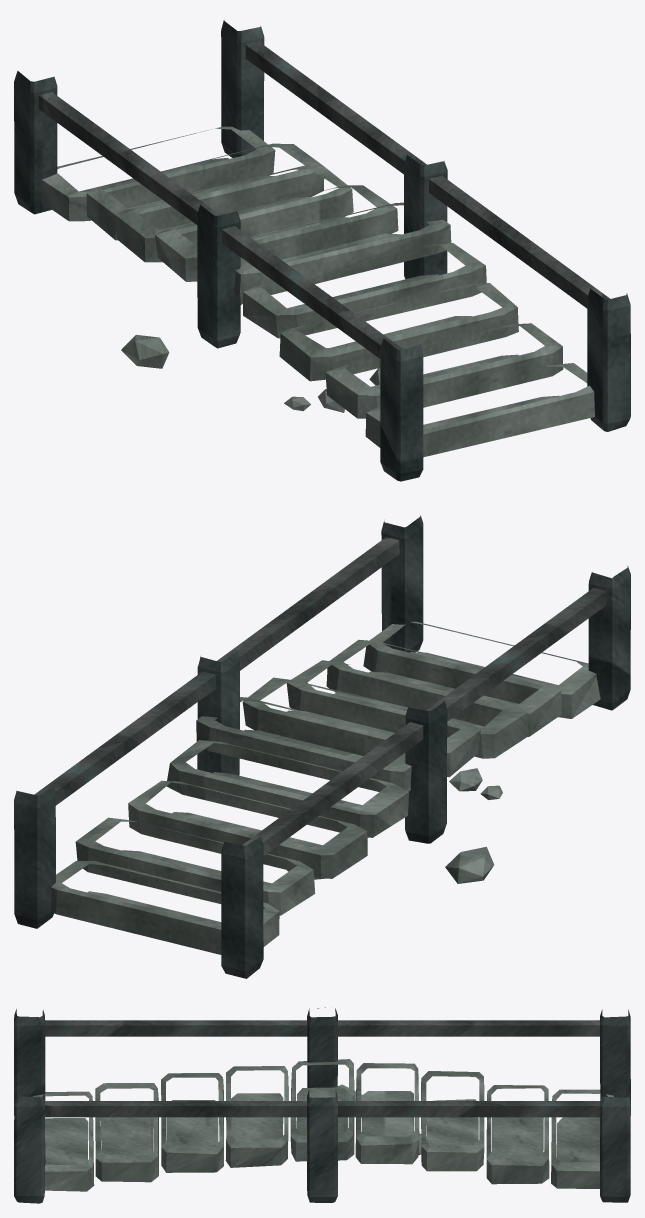
Rendered from 0389_ruined_bridge_14.glb.
3 views of the same model, one above another, from view 1: azimuth 30°, elevation 25°; view 2: azimuth 150°, elevation 25°; view 3: azimuth 270°, elevation 25° (orthographic). The views are drawn at different scales.
Visible parts, largest first — view 1: stone, stone_dark, iron; view 2: stone, stone_dark, iron; view 3: stone, iron, stone_dark.
Part boxes in pixels (bbox=[...]): stone: bbox=[41, 126, 594, 457]; stone_dark: bbox=[14, 20, 630, 481]; iron: bbox=[38, 41, 610, 358]; stone: bbox=[51, 621, 600, 954]; stone_dark: bbox=[14, 515, 630, 978]; iron: bbox=[34, 537, 606, 855]; stone: bbox=[33, 1059, 613, 1191]; iron: bbox=[45, 1020, 600, 1117]; stone_dark: bbox=[14, 1007, 630, 1203].
Bounding box in the file's own units: 2.24 × 1.09 × 5.02.
3 materials, 3 textured.
